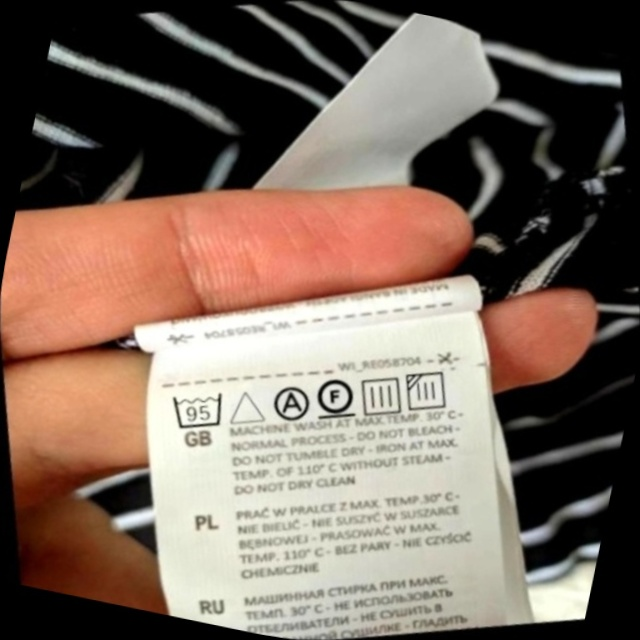95C: (160, 376, 238, 444)
bleach: (218, 376, 275, 437)
drip_dry: (348, 363, 415, 428)
drip_dry_in_shade: (394, 357, 463, 425)
dry_clean: (261, 375, 319, 432)
dry_clean_petrol_only: (304, 363, 368, 430)
